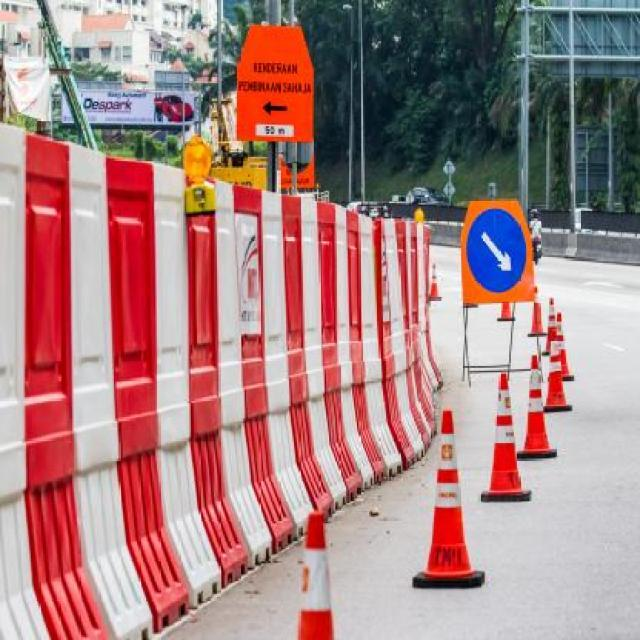fallen_object: (0, 107, 212, 640), (195, 142, 344, 570), (317, 182, 444, 482), (412, 377, 490, 616), (258, 501, 366, 640), (469, 363, 541, 518), (522, 287, 588, 413), (513, 356, 560, 459), (415, 250, 458, 305)
